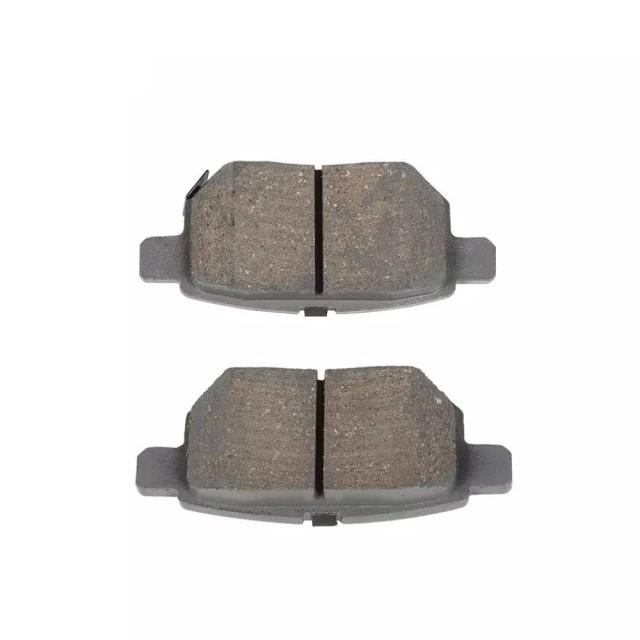brake_pad: (132, 353, 521, 527), (121, 148, 503, 316)
